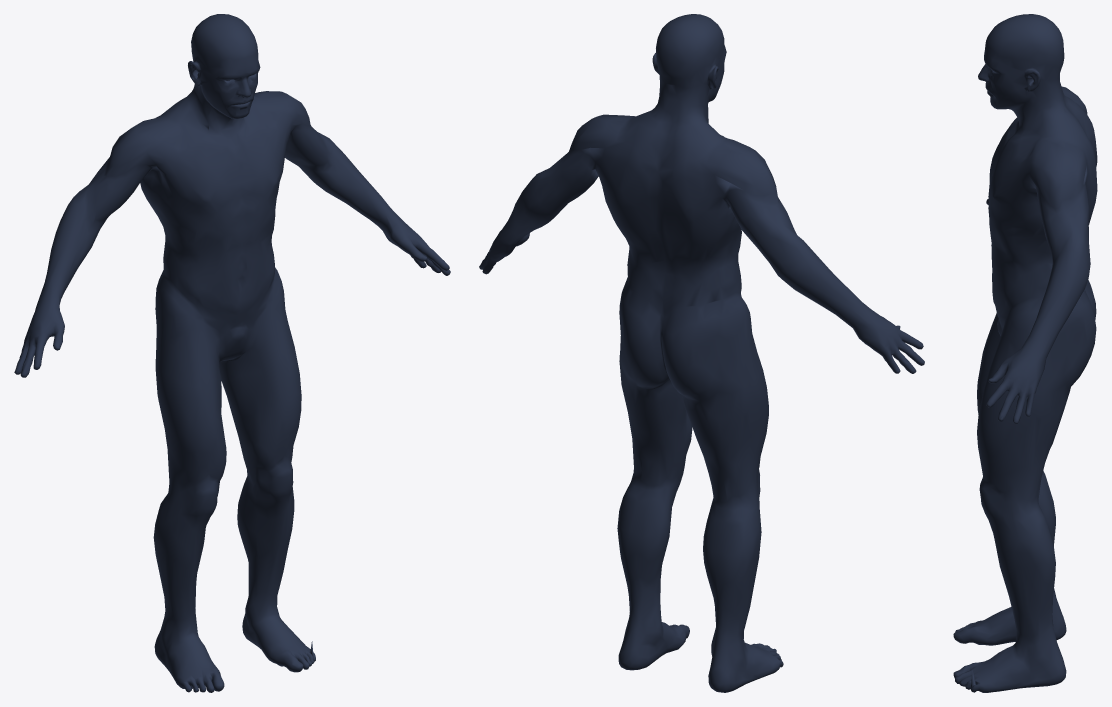
The model's file is person.glb.
The picture shows the model from 3 angles, left to right: view 1: azimuth 30°, elevation 25°; view 2: azimuth 150°, elevation 25°; view 3: azimuth 270°, elevation 25°; orthographic projection. The views are drawn at different scales.
Visible parts, largest first — view 1: Body_NoGenitals.002; view 2: Body_NoGenitals.002; view 3: Body_NoGenitals.002.
Part boxes in pixels (left/top/right/bottom): Body_NoGenitals.002: left=14, top=14, right=450, bottom=692; Body_NoGenitals.002: left=479, top=14, right=924, bottom=692; Body_NoGenitals.002: left=953, top=14, right=1097, bottom=692.
Size of the model in its own units: 1.3 by 1.85 by 0.3745.
